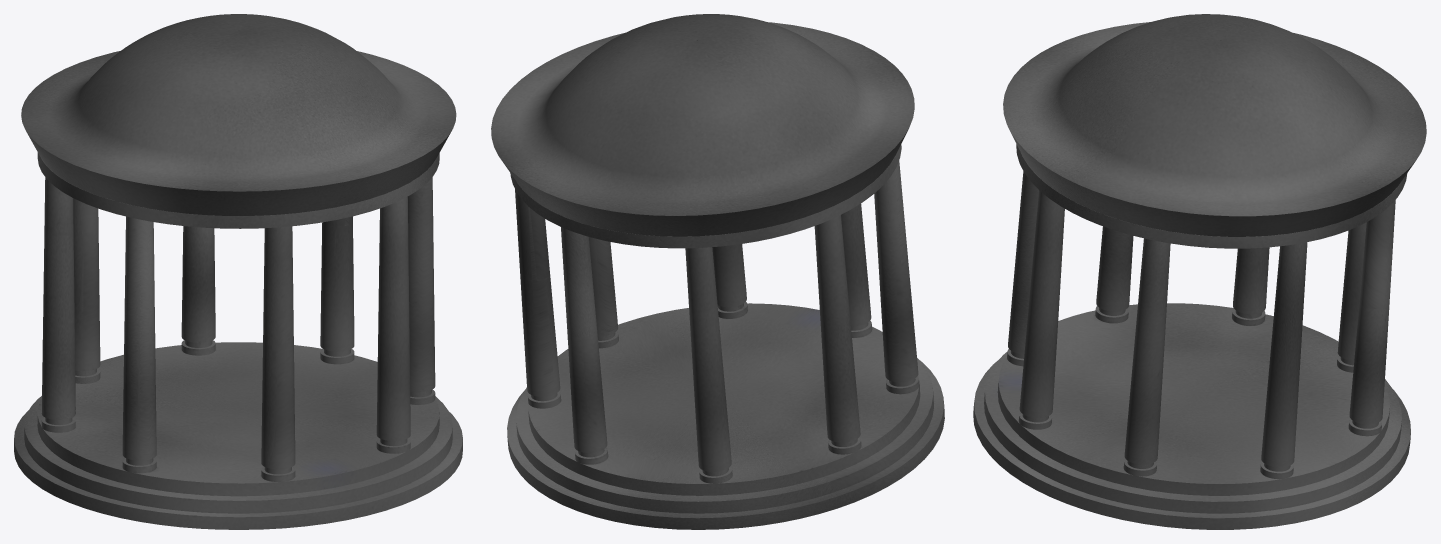
The model's file is gazebo.glb.
3 views of the same model, side by side, from view 1: azimuth 30°, elevation 25°; view 2: azimuth 150°, elevation 25°; view 3: azimuth 270°, elevation 25° (orthographic). The views are drawn at different scales.
Visible parts, largest first — view 1: node_id5_1; view 2: node_id5_1; view 3: node_id5_1.
Boxes of the visible parts, box(x1,y1,x2,y2) form: node_id5_1: box(14, 14, 462, 529); node_id5_1: box(491, 14, 944, 529); node_id5_1: box(973, 14, 1426, 529).
Bounding box in the file's own units: 0.5196 × 0.5322 × 0.5299.
1 material, 1 textured.
